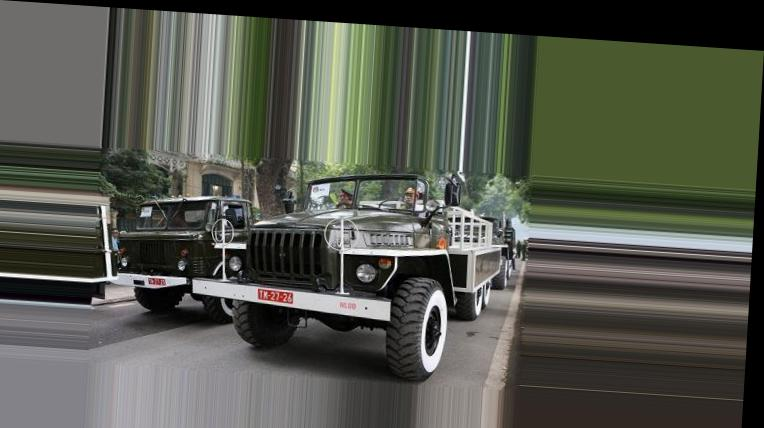License_Plate: (255, 285, 296, 308), (146, 274, 168, 289)
